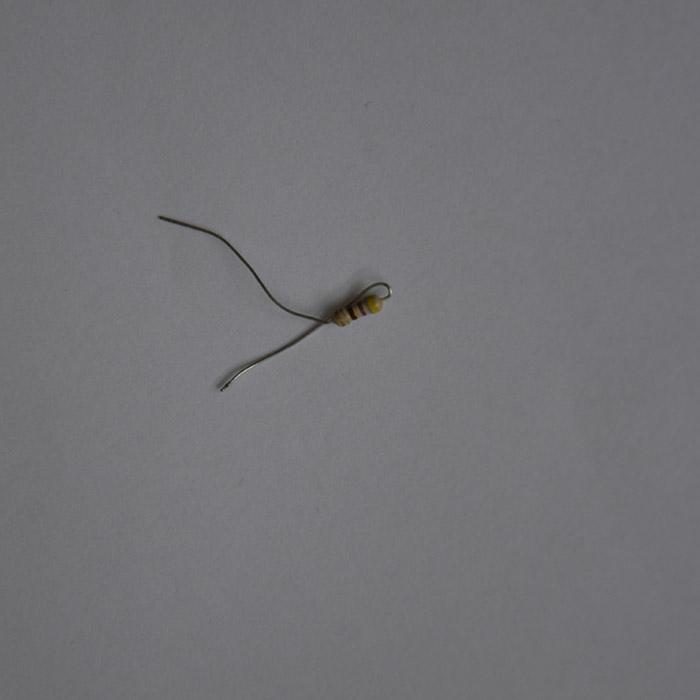resistor: (330, 285, 391, 327)
